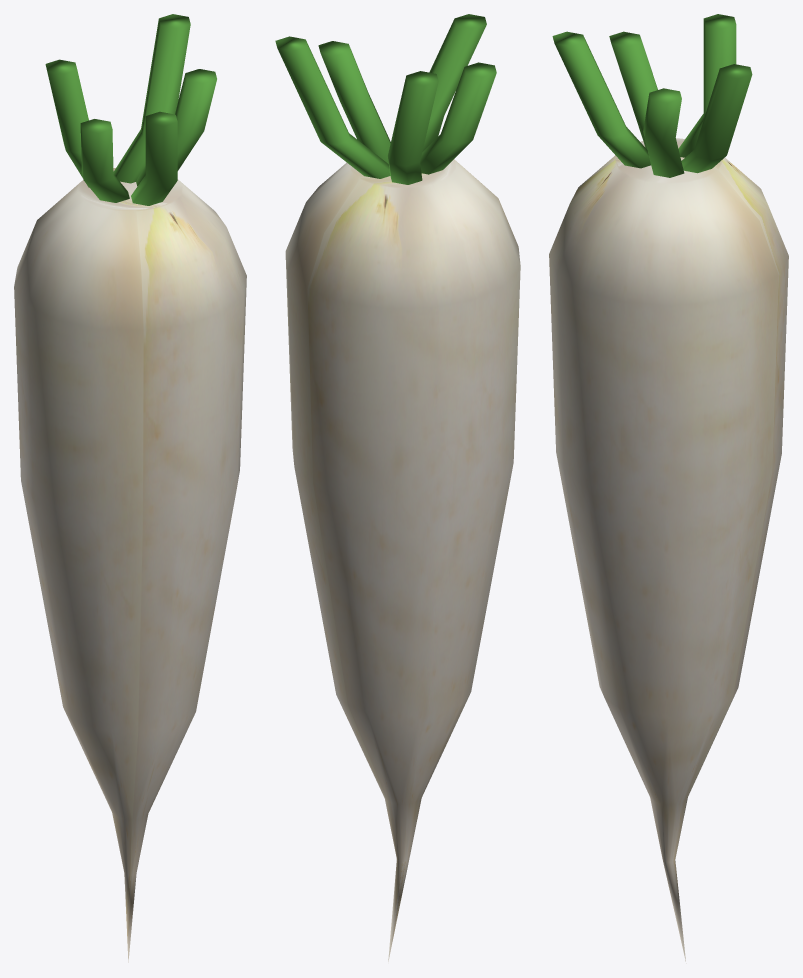
File: Turnip.fbx
3 views of the same model, side by side, from view 1: azimuth 30°, elevation 25°; view 2: azimuth 150°, elevation 25°; view 3: azimuth 270°, elevation 25° (orthographic). The views are drawn at different scales.
Visible parts, largest first — view 1: polySurface2; view 2: polySurface2; view 3: polySurface2.
Part boxes in pixels (x1,y1,x2,y2): polySurface2: (14, 14, 246, 962); polySurface2: (275, 14, 520, 961); polySurface2: (549, 14, 788, 963).
Bounding box in the file's own units: 8.67 × 36.87 × 8.64.
2 materials, 1 textured.
